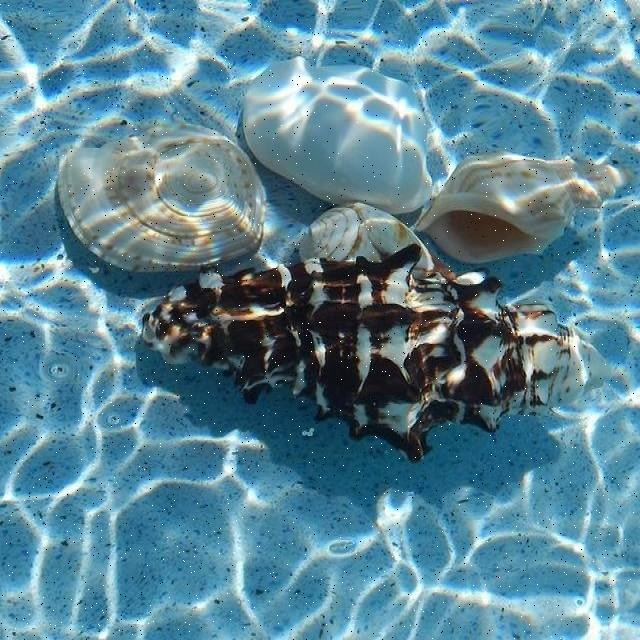reefs: (141, 243, 613, 459), (56, 120, 266, 274), (244, 57, 433, 218), (413, 148, 633, 263), (285, 202, 435, 276)
